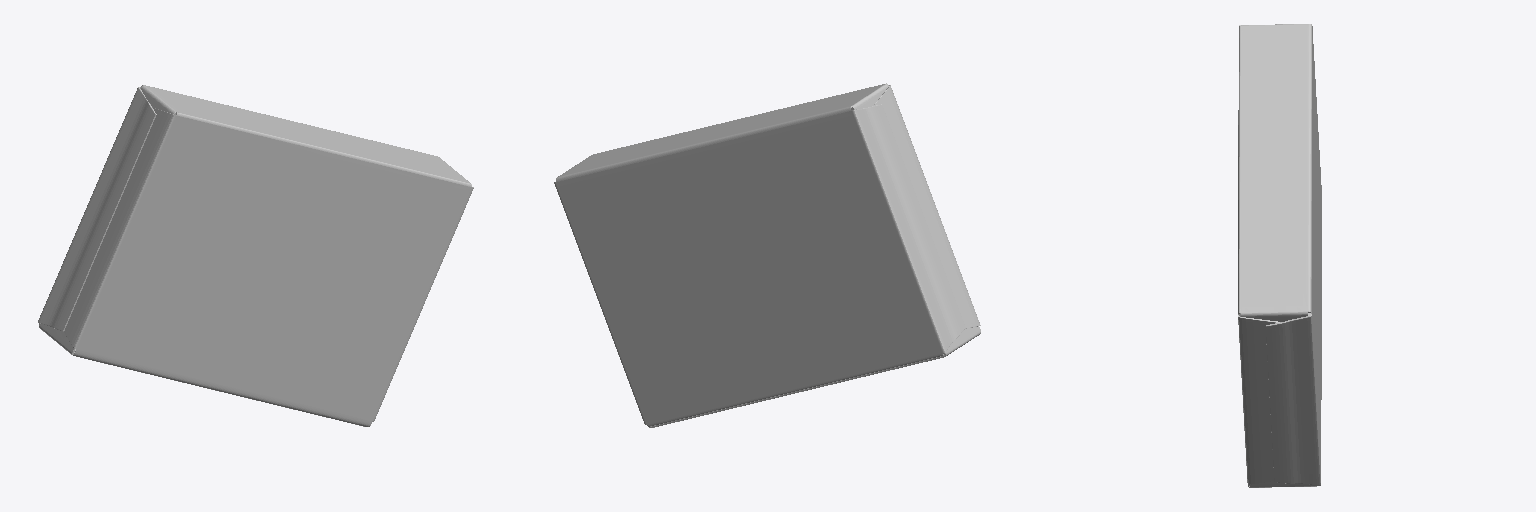
Rendered from box_of_cereal_xyz_5.obj.
3 renders of one model, left to right at view 1: azimuth 30°, elevation 25°; view 2: azimuth 150°, elevation 25°; view 3: azimuth 270°, elevation 25°, orthographic.
Parts seen in each view (by area): view 1: Box_Box_Box_Box_of_cerealCOL_jpg.001; view 2: Box_Box_Box_Box_of_cerealCOL_jpg.001; view 3: Box_Box_Box_Box_of_cerealCOL_jpg.001.
Part boxes in pixels (x1,y1,x2,y2): Box_Box_Box_Box_of_cerealCOL_jpg.001: (38,85,473,426); Box_Box_Box_Box_of_cerealCOL_jpg.001: (554,83,980,427); Box_Box_Box_Box_of_cerealCOL_jpg.001: (1238,24,1321,487).
Bounding box in the file's own units: 0.302 × 0.2676 × 0.0554.